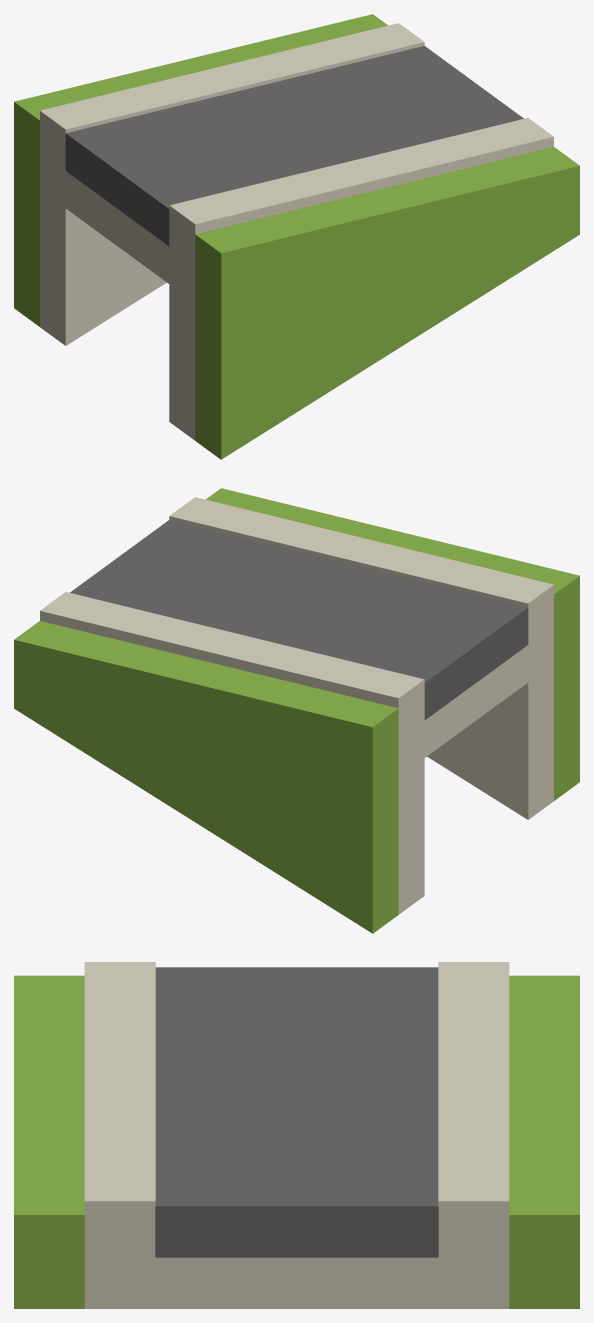
The model's file is tile057.fbx.
3 views of the same model, one above another, from view 1: azimuth 30°, elevation 25°; view 2: azimuth 150°, elevation 25°; view 3: azimuth 270°, elevation 25° (orthographic). The views are drawn at different scales.
Parts seen in each view (by area): view 1: tile057; view 2: tile057; view 3: tile057.
Boxes of the visible parts, box(x1,y1,x2,y2) form: tile057: box(14, 14, 579, 459); tile057: box(14, 488, 579, 933); tile057: box(14, 962, 579, 1308).
Size of the model in its own units: 10 by 5.77 by 10.
